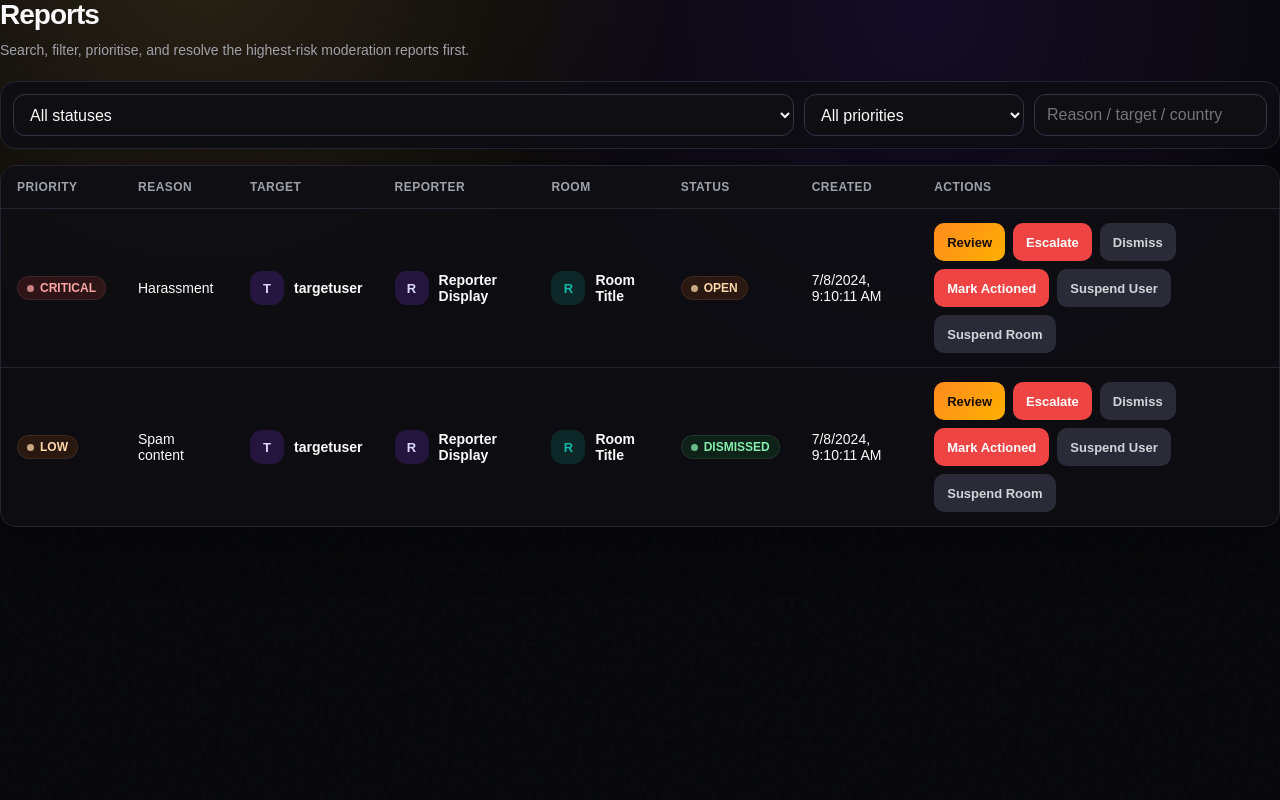
ReportsPage › filters by status, priority and reason
expect the text "Harassment" is shown: met, box [122,209,234,368]
Select "DISMISSED" in the 1st dropdown at x=404, y=115, box [13,94,794,136]
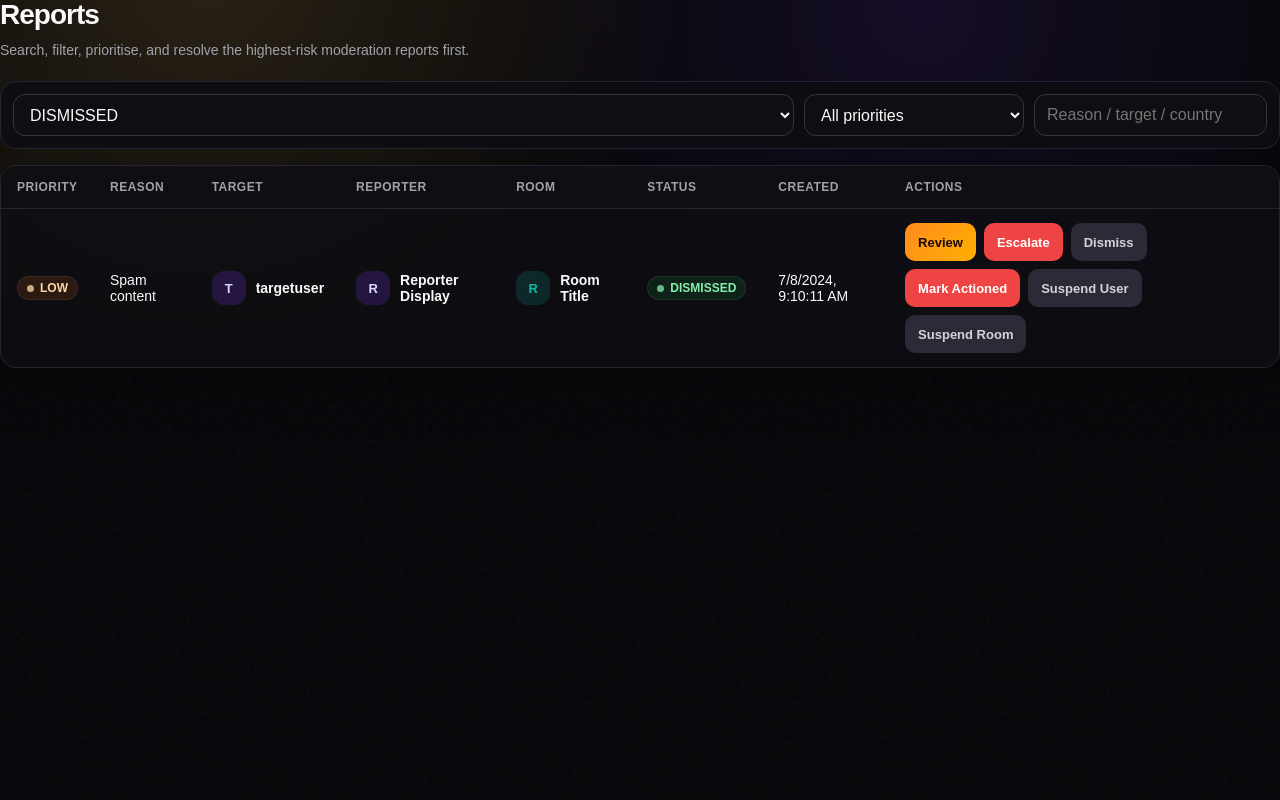
expect the text "Spam content" is shown: met, box [94,209,196,367]
expect the text "Harassment" is gone: met
Select "LOW" in the 2nd dropdown at x=914, y=115, box [804,94,1024,136]
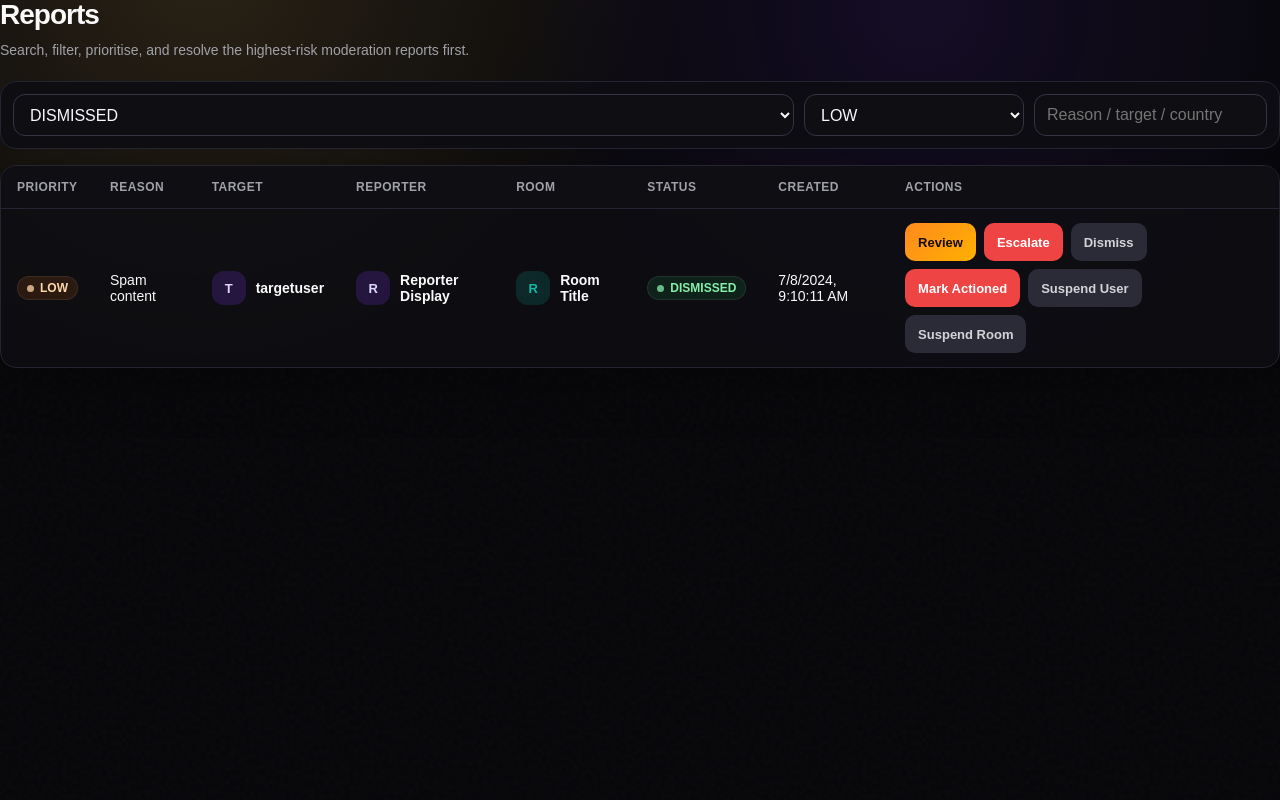
expect the text "Spam content" is shown: met, box [94,209,196,367]
Type "SPAM" into the field with placeholder "Reason / target / country" at x=1150, y=115, box [1034,94,1267,136]
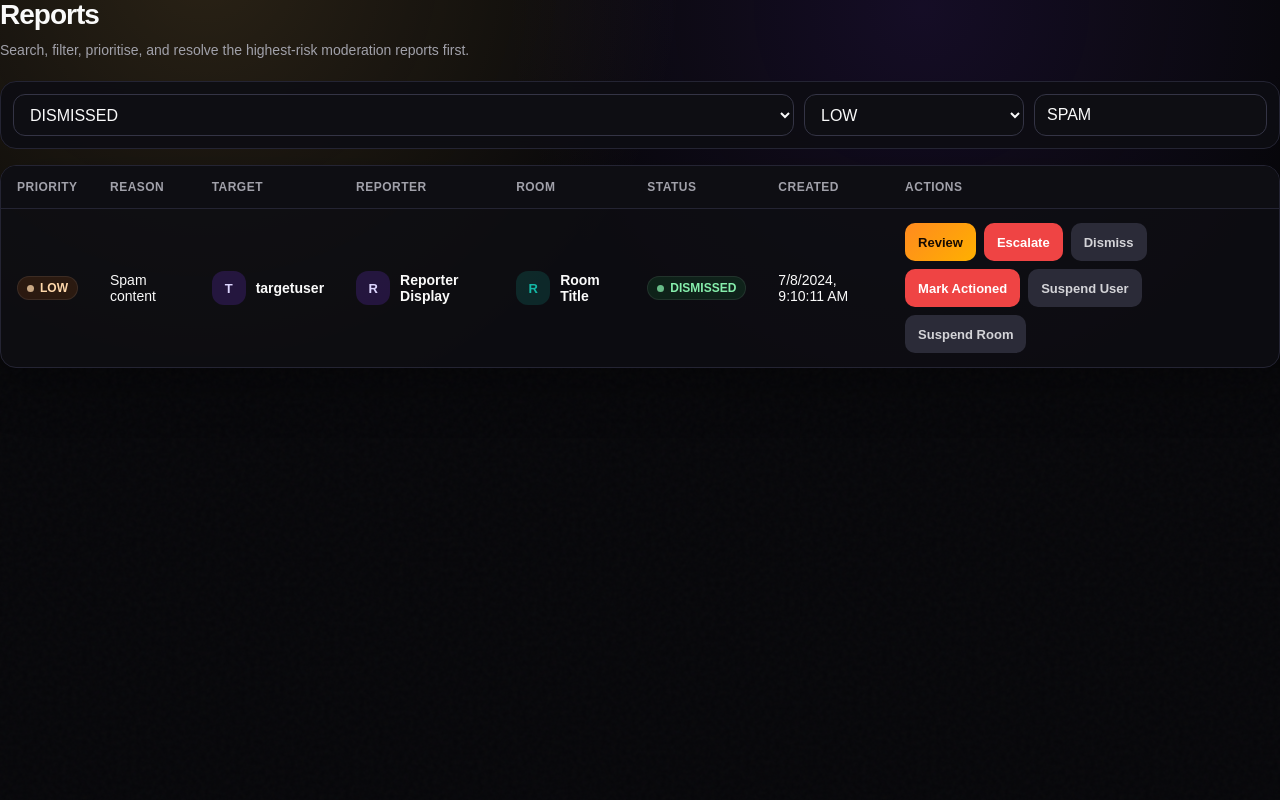
expect the text "Spam content" is shown: met, box [94,209,196,367]
Replace the text in the field with placeholder "Reason / target / country" with "zzz" at x=1150, y=115, box [1034,94,1267,136]
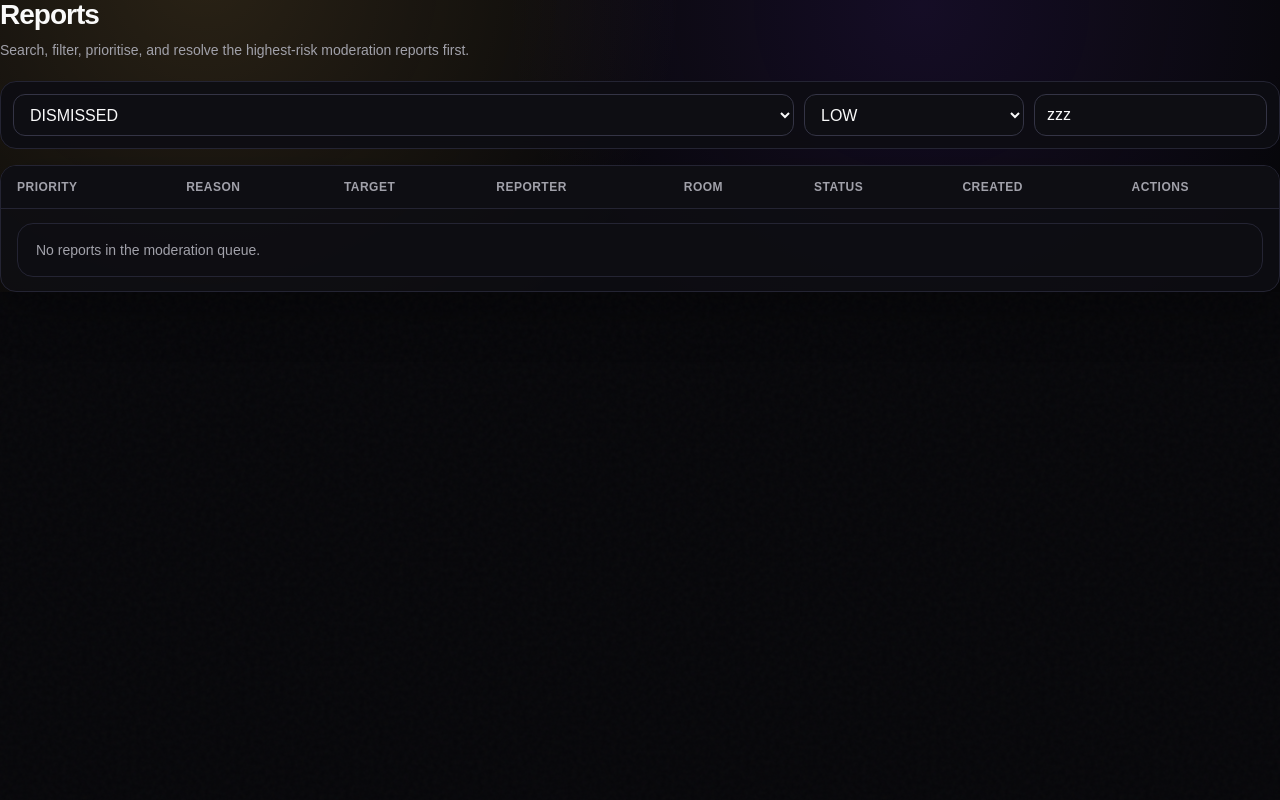
expect the text "Spam content" is gone: met
